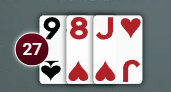8: (65, 15, 92, 42)
9: (37, 15, 66, 42)
j: (92, 15, 119, 42)
